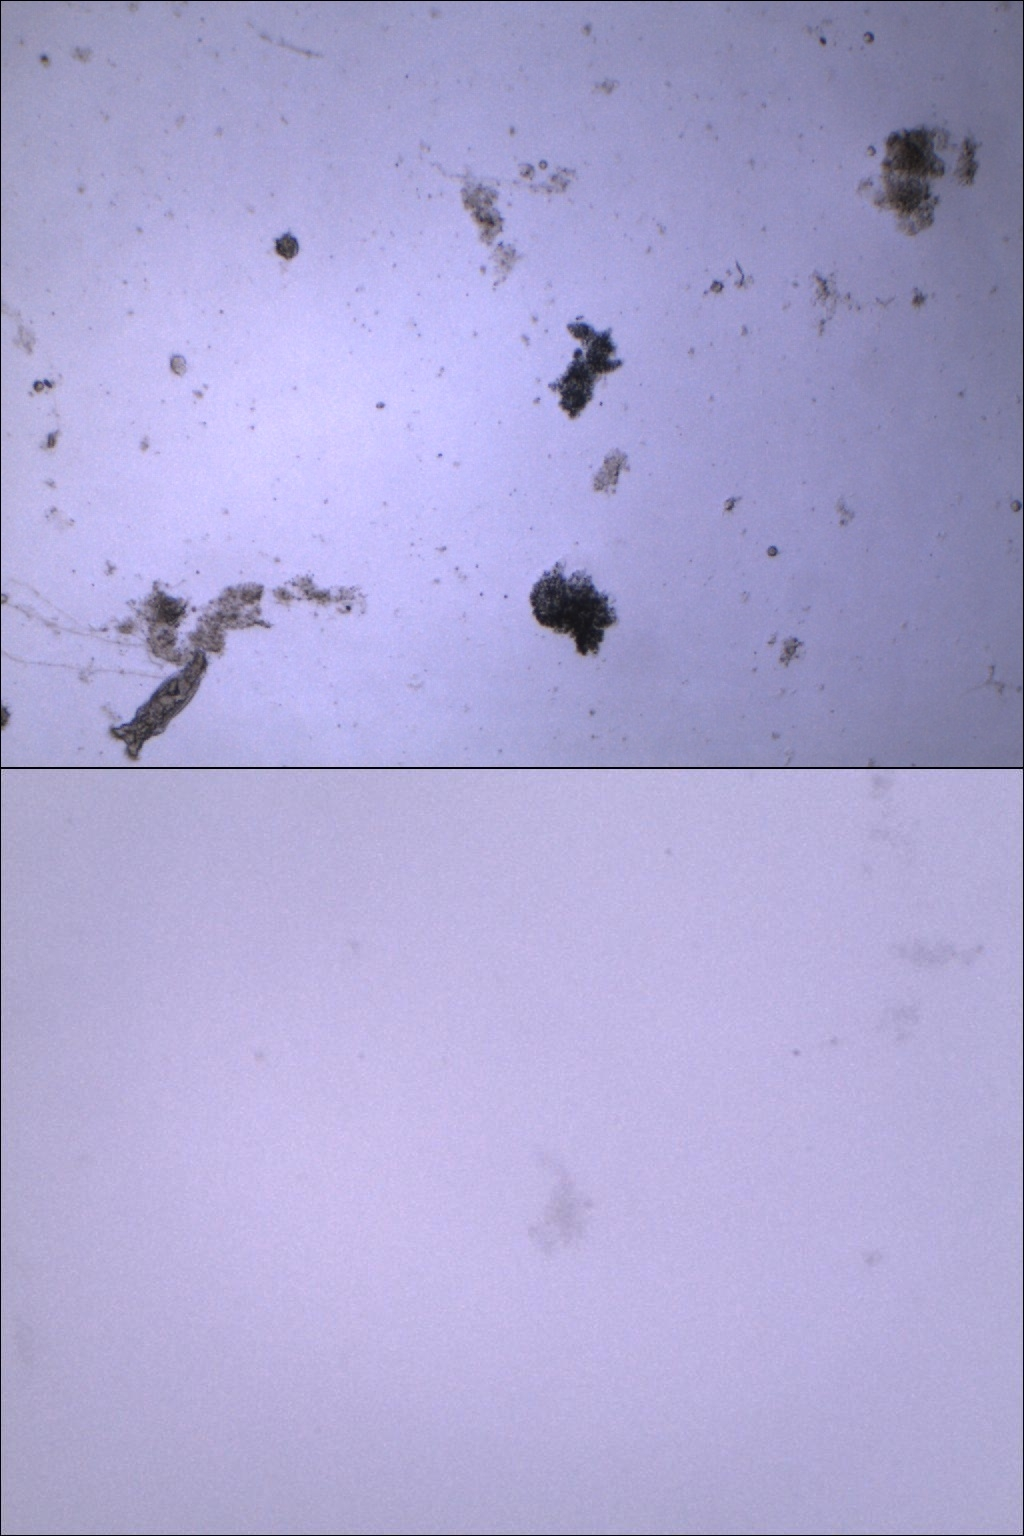N.Fowleri Amoeba: (496, 1129, 630, 1280)
Proteus Amoeba: (520, 544, 633, 677), (535, 309, 638, 427)
